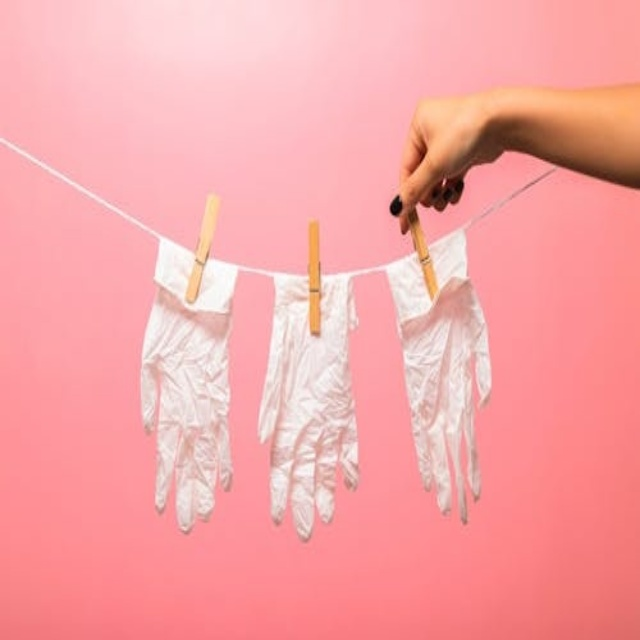Sin_guantes: (391, 91, 505, 226)
